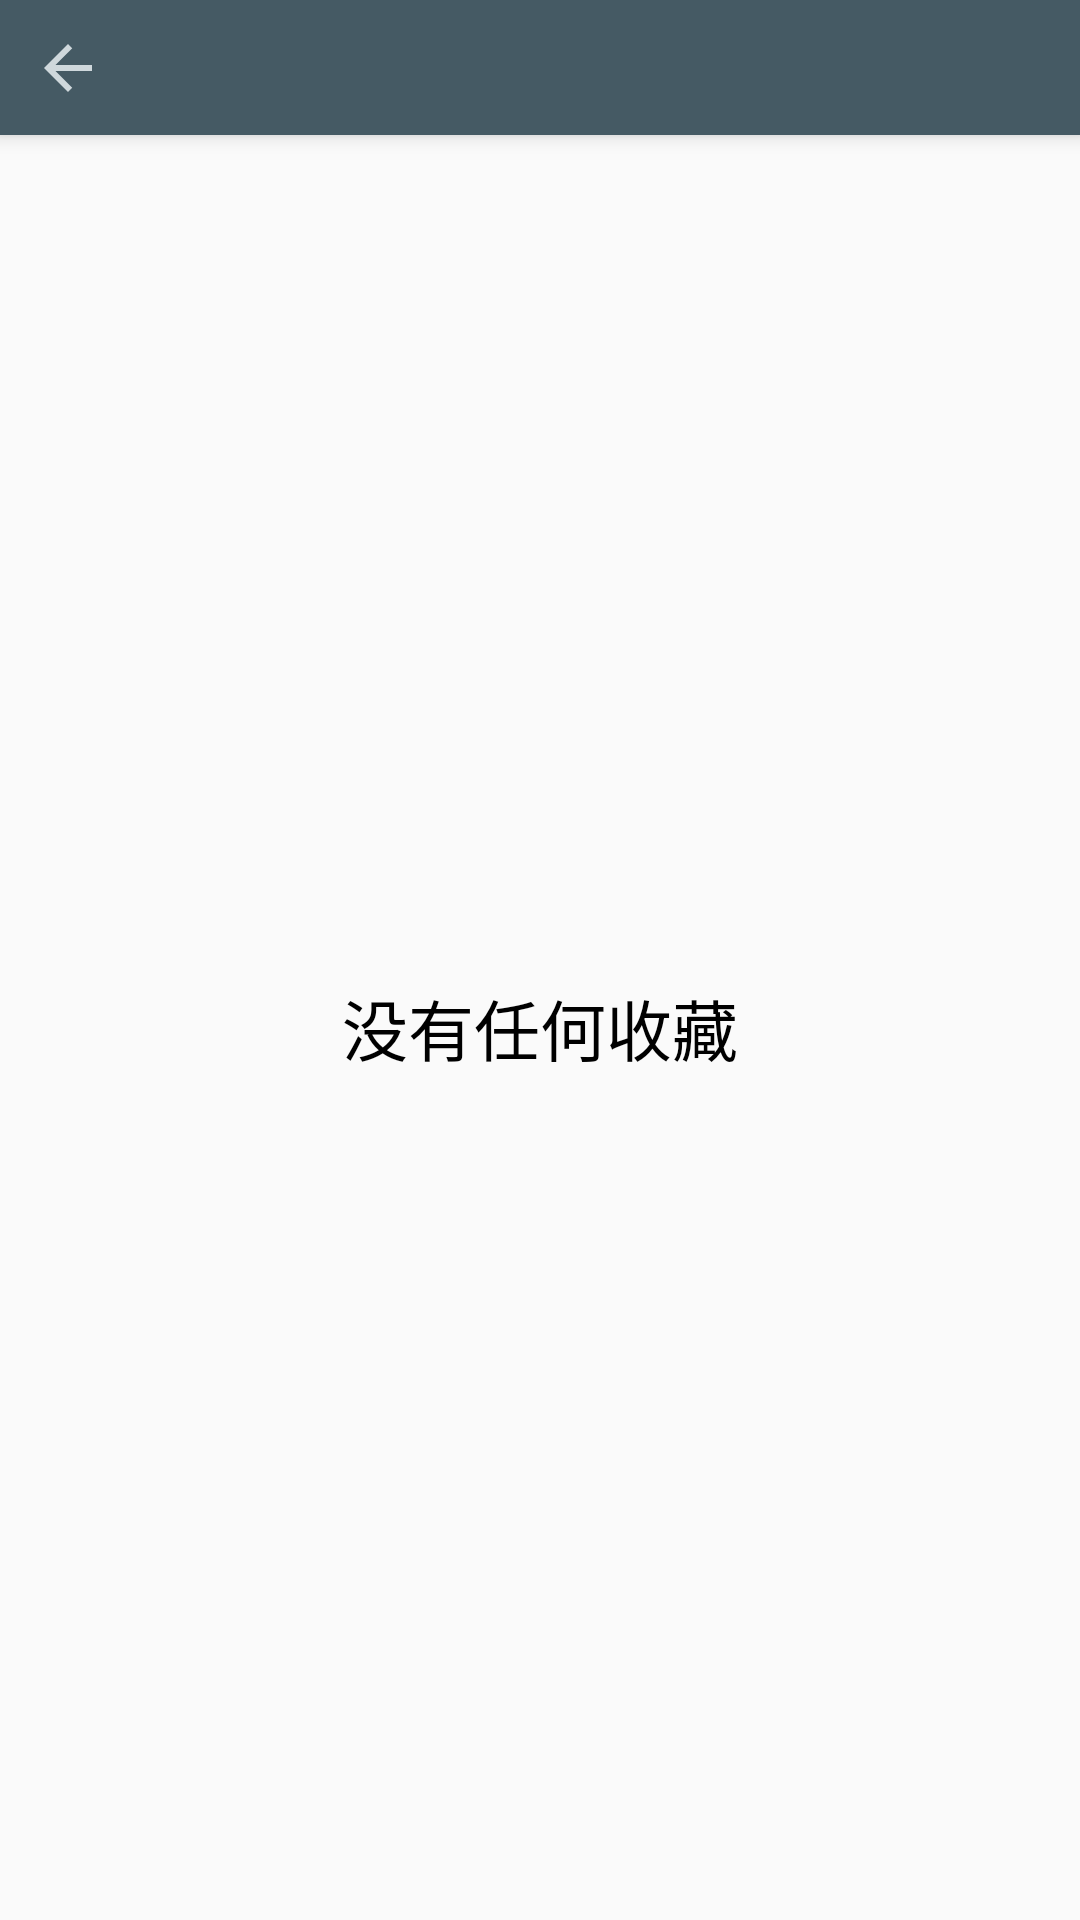

Icon bounding boxes for this 1080×1920 phone screenshot, format (x1, y1, x2, y2):
arrow back: (44, 44, 92, 92)
